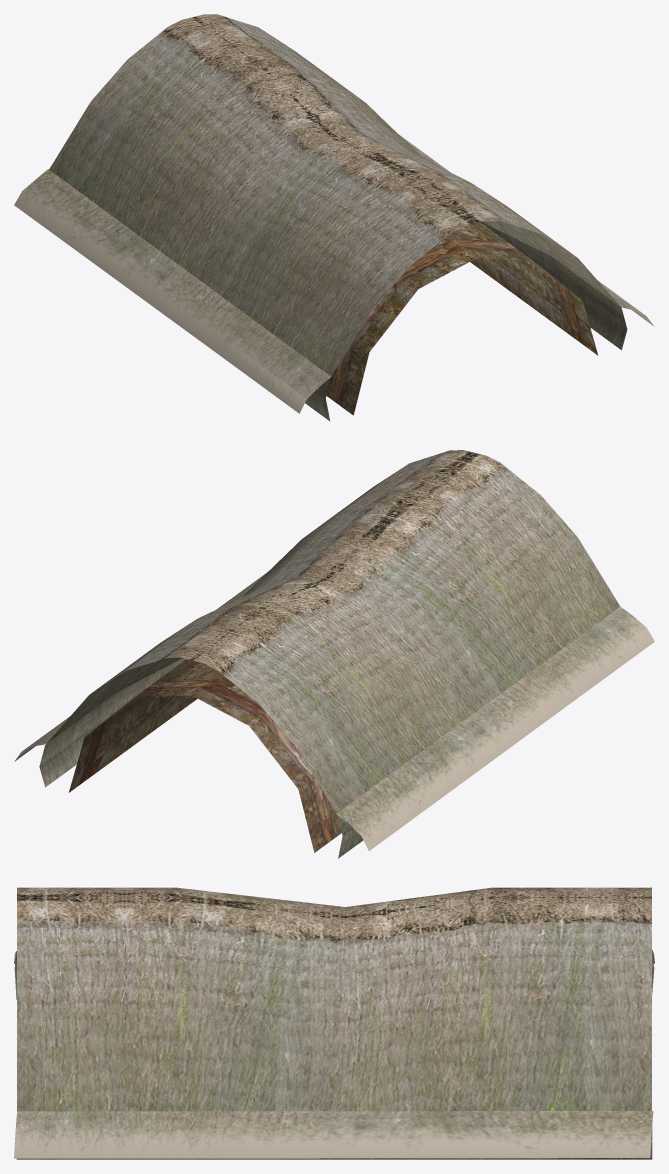
File: Roof_2.fbx
3 renders of one model, top to bottom at view 1: azimuth 30°, elevation 25°; view 2: azimuth 150°, elevation 25°; view 3: azimuth 270°, elevation 25°, orthographic. The views are drawn at different scales.
Visible parts, largest first — view 1: Mesh; view 2: Mesh; view 3: Mesh.
Part boxes in pixels (bbox=[...]): Mesh: bbox=[14, 14, 654, 421]; Mesh: bbox=[14, 450, 654, 858]; Mesh: bbox=[14, 887, 654, 1159].
Size of the model in its own units: 2012 by 876 by 2794.
